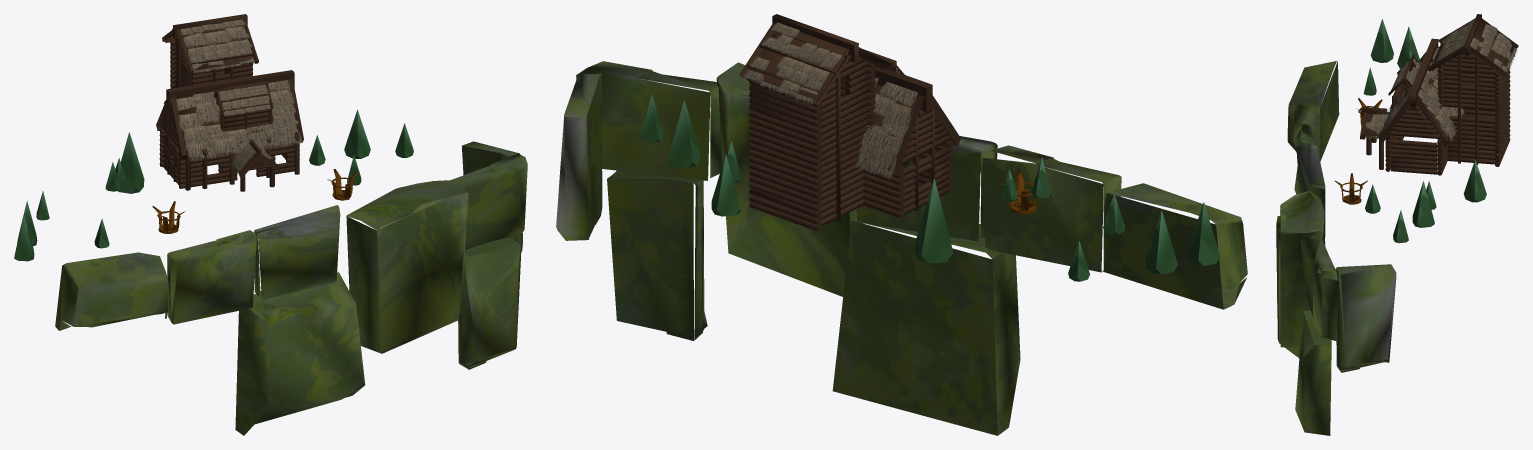
Rendered from townhall.glb.
3 views of the same model, side by side, from view 1: azimuth 30°, elevation 25°; view 2: azimuth 150°, elevation 25°; view 3: azimuth 270°, elevation 25° (orthographic). The views are drawn at different scales.
Visible parts, largest first — view 1: cliffes_townhall, townhall; view 2: cliffes_townhall, townhall; view 3: cliffes_townhall, townhall.
Part boxes in pixels (box(x1,y1,x2,y2)): cliffes_townhall: box(55, 141, 527, 435); townhall: box(14, 14, 413, 261); cliffes_townhall: box(556, 61, 1247, 435); townhall: box(640, 14, 1219, 281); cliffes_townhall: box(1276, 61, 1396, 435); townhall: box(1334, 14, 1518, 243).
Size of the model in its own units: 2.94 by 1.94 by 1.32.
5 materials, 3 textured.
